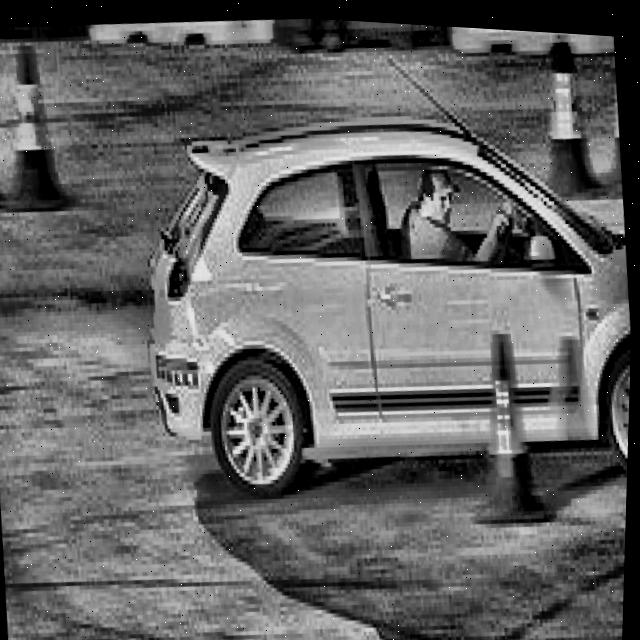light_vehicle: (127, 71, 638, 540)
